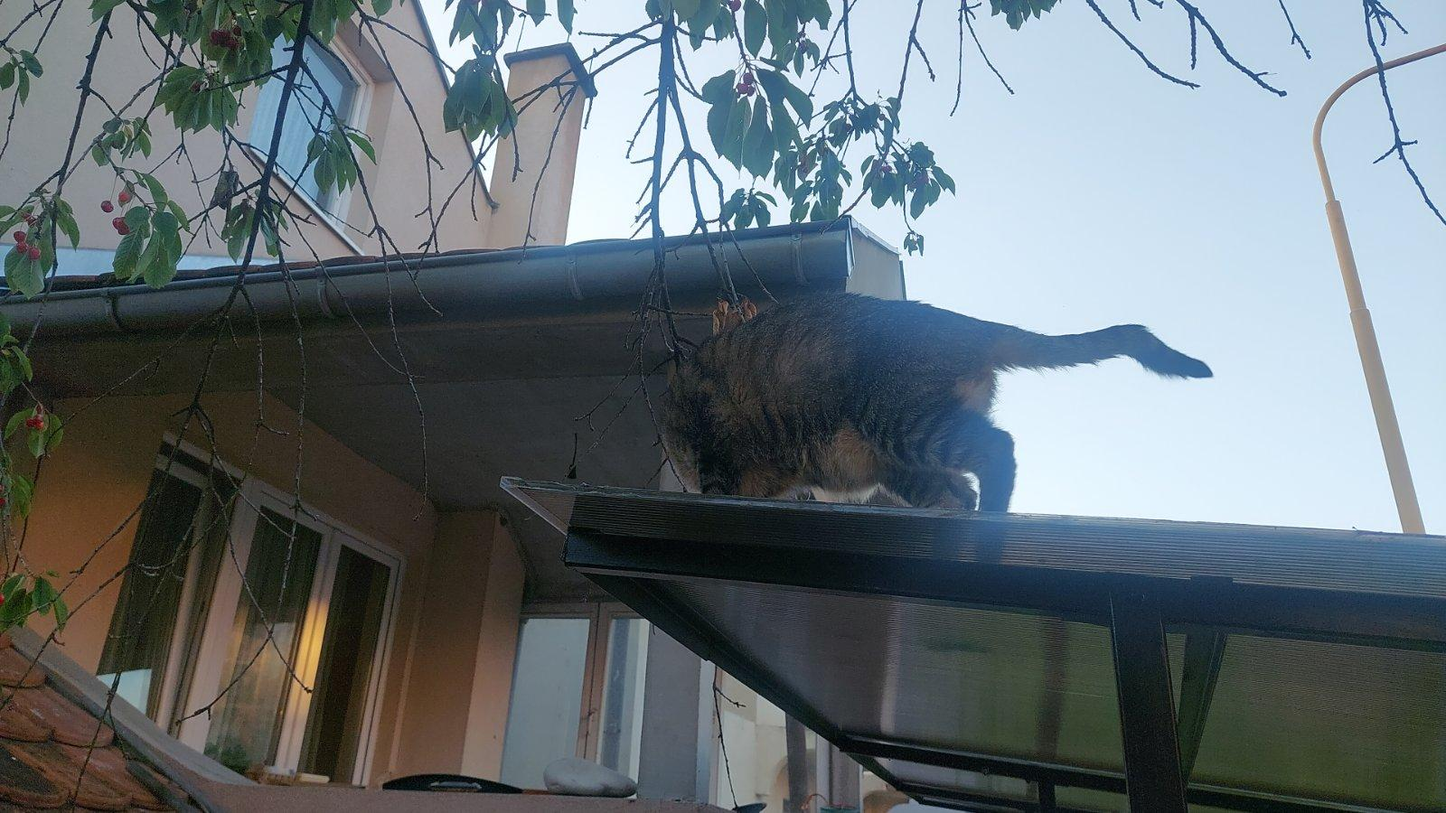macka: (665, 293, 1212, 562)
